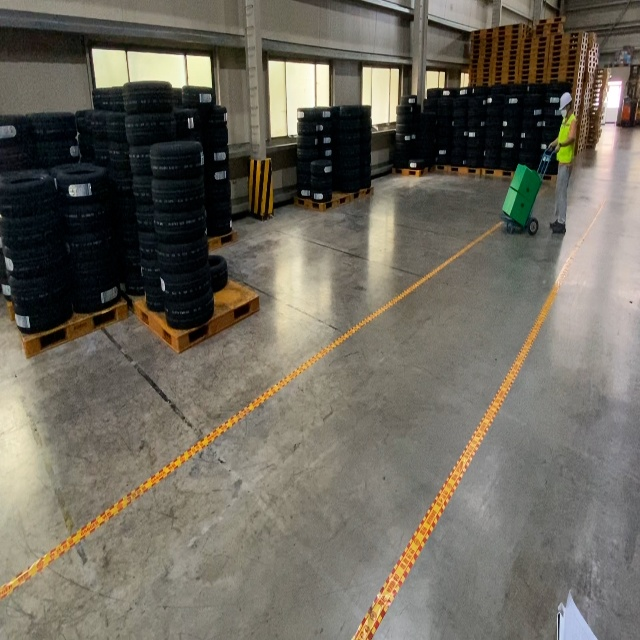Box: (503, 187, 532, 226), (510, 164, 539, 203)
Worker: (549, 92, 577, 235)
